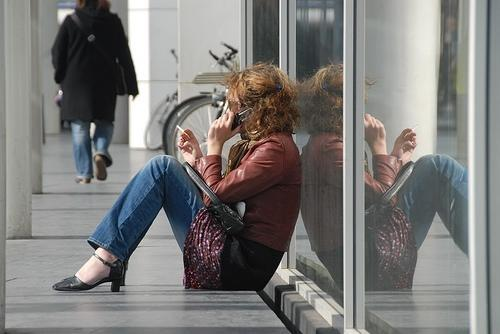bicycle: (162, 42, 240, 165), (145, 50, 180, 152)
